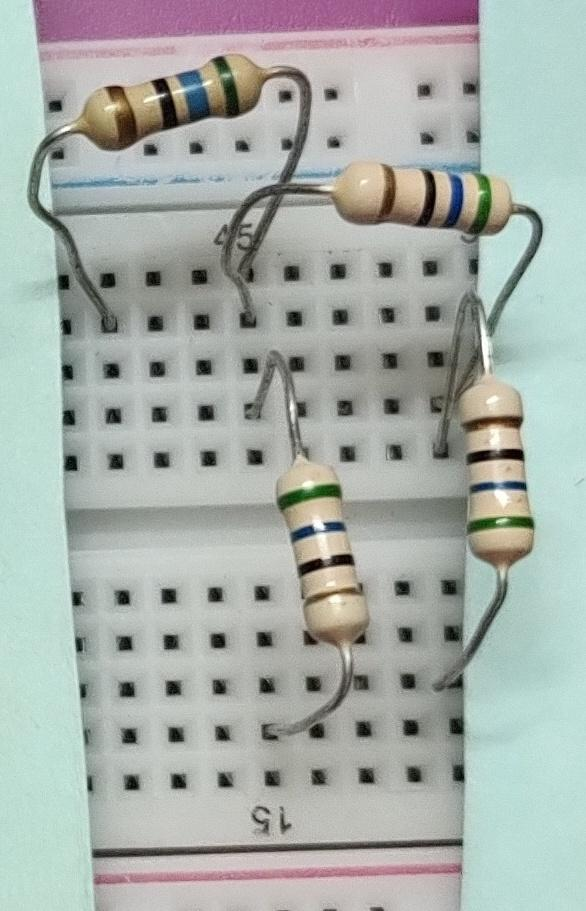resistor: (260, 444, 374, 652), (67, 49, 270, 155), (444, 369, 540, 574), (320, 154, 520, 247)
